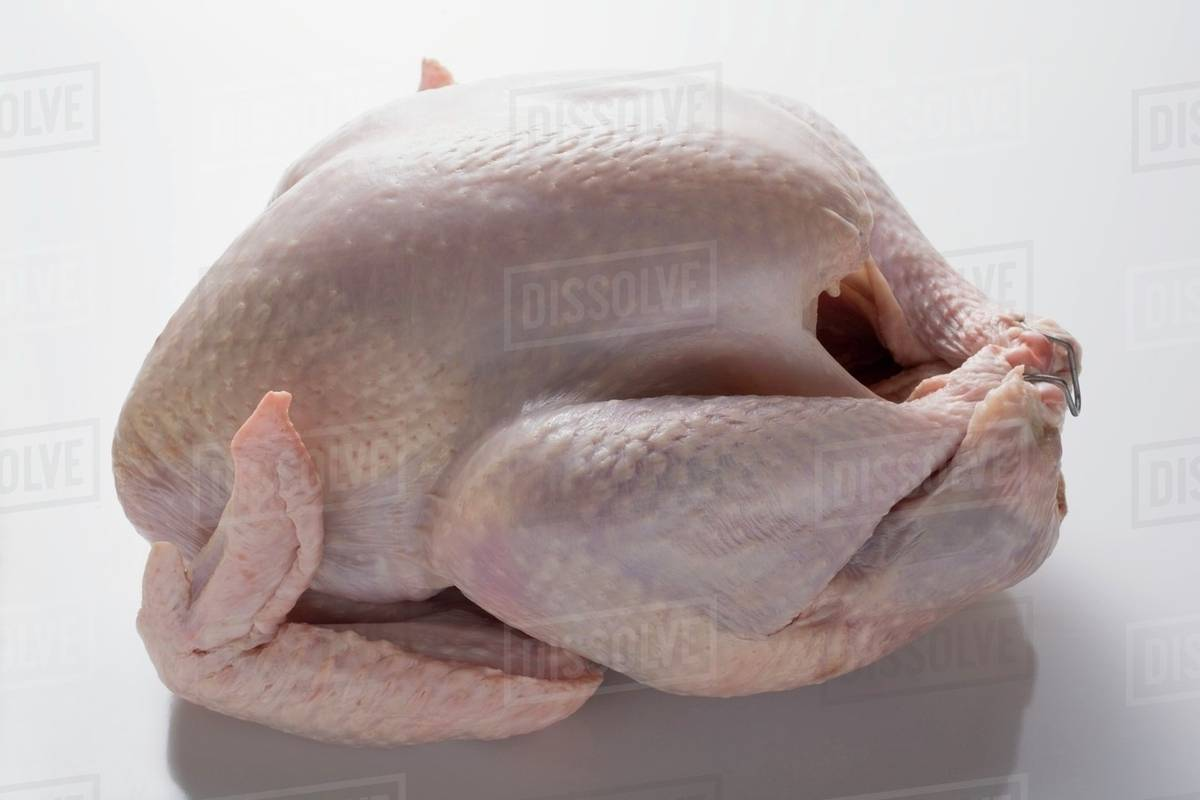Turkey: (100, 47, 1096, 756)
